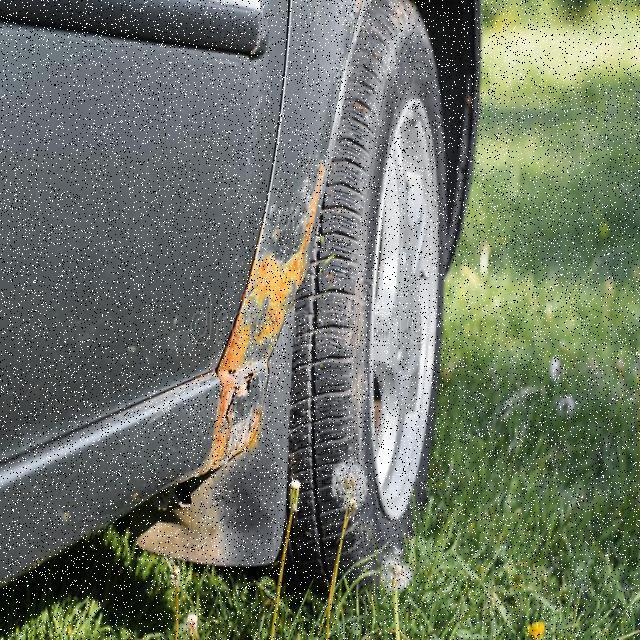quaterpanel-dent: (268, 4, 404, 512)
